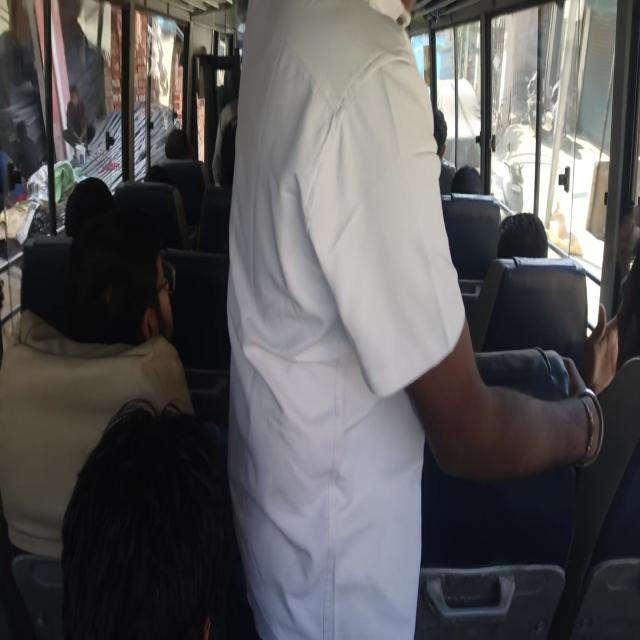person: (226, 0, 439, 608), (49, 415, 248, 635), (79, 232, 196, 381), (595, 236, 640, 342), (498, 208, 558, 278), (66, 183, 120, 236), (453, 160, 489, 208), (163, 124, 196, 162), (430, 109, 447, 154), (146, 166, 174, 188)
